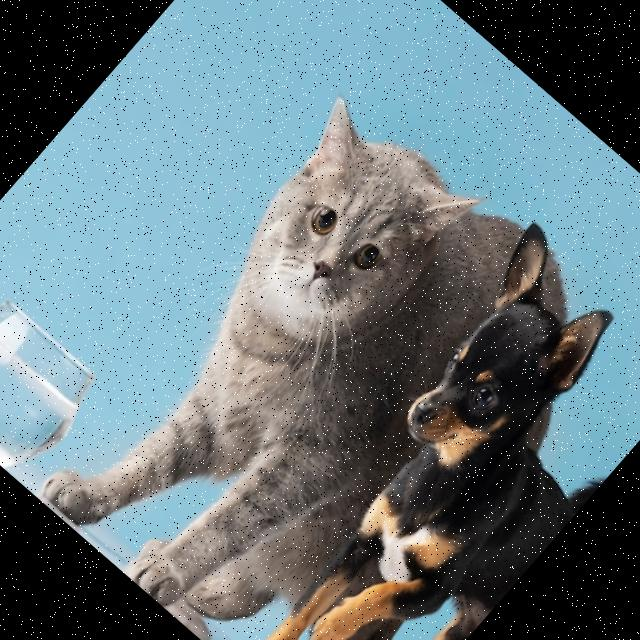Dog: (182, 220, 640, 640)
